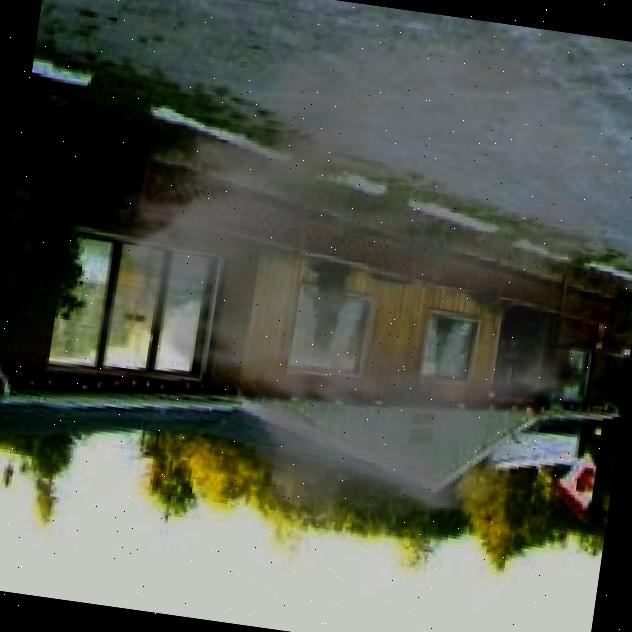smoke: (52, 0, 632, 575)
